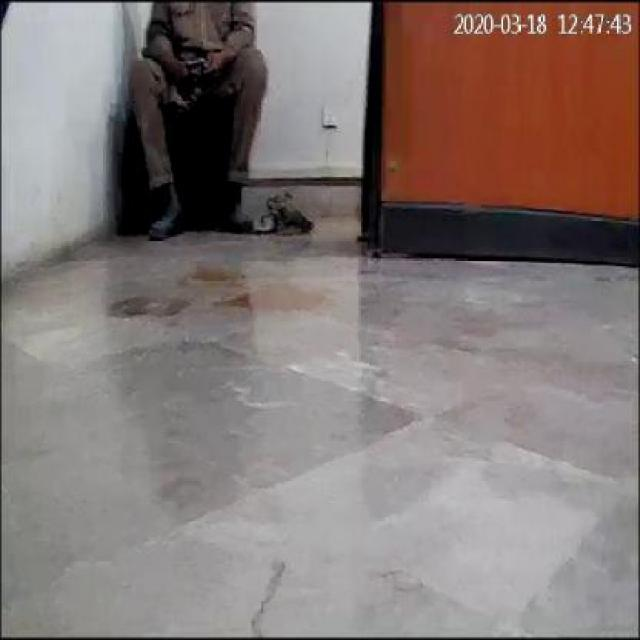spill: (230, 280, 328, 312), (191, 261, 240, 284)
